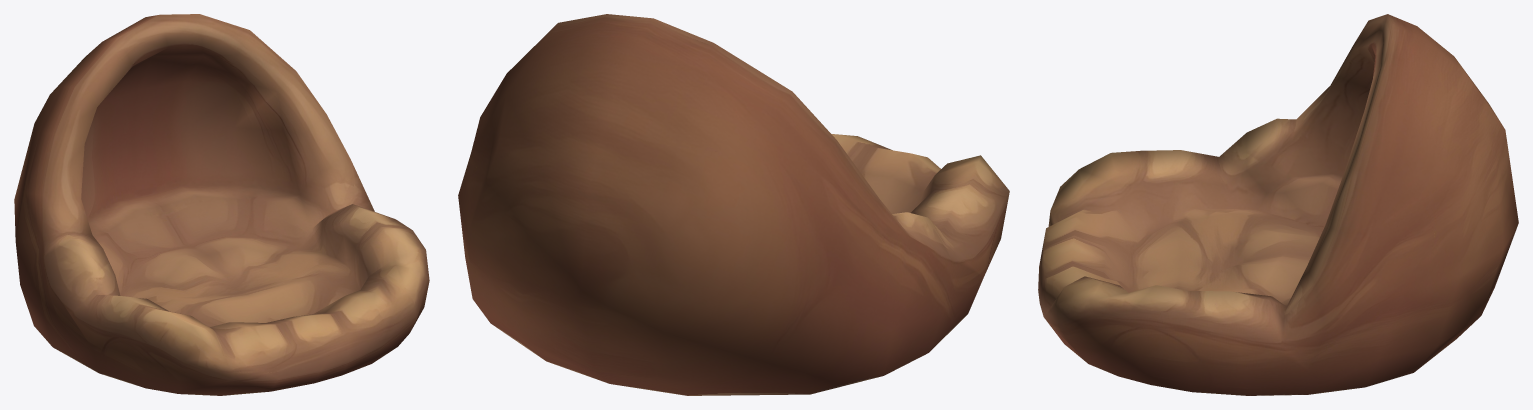
File: PetBed.glb
3 renders of one model, left to right at view 1: azimuth 30°, elevation 25°; view 2: azimuth 150°, elevation 25°; view 3: azimuth 270°, elevation 25°, orthographic. The views are drawn at different scales.
Visible parts, largest first — view 1: PetBed; view 2: PetBed; view 3: PetBed.
Boxes of the visible parts, bbox=[...] form: PetBed: bbox=[14, 14, 429, 395]; PetBed: bbox=[458, 14, 1009, 395]; PetBed: bbox=[1038, 14, 1518, 395].
Size of what is drawn, in the model's own units: 0.889 by 0.6411 by 0.9843.
1 material, 1 textured.
